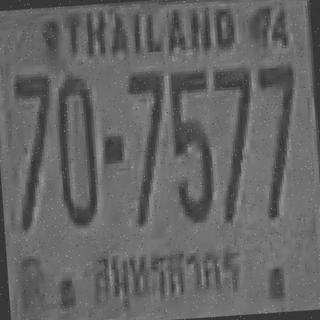N07: (212, 66, 255, 154), (12, 72, 54, 159), (256, 62, 297, 149), (126, 70, 167, 156)
P58: (79, 231, 254, 307)
